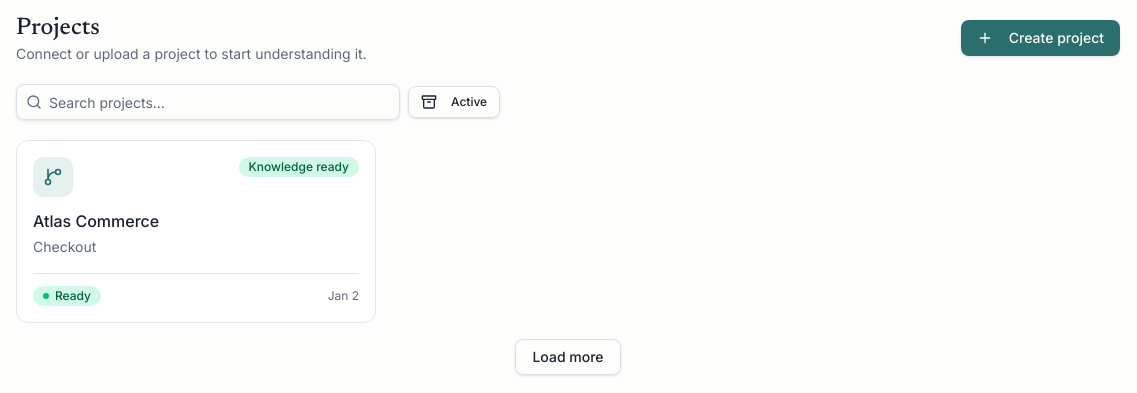
it: ProjectsPage › shows load more when nextCursor is present
This screenshot has width=1137, height=393.
Expected: the heading "Atlas Commerce" is shown, [33,211,159,231]
Click the button "Load more". click: (568, 357)
box: [515,339,620,375]
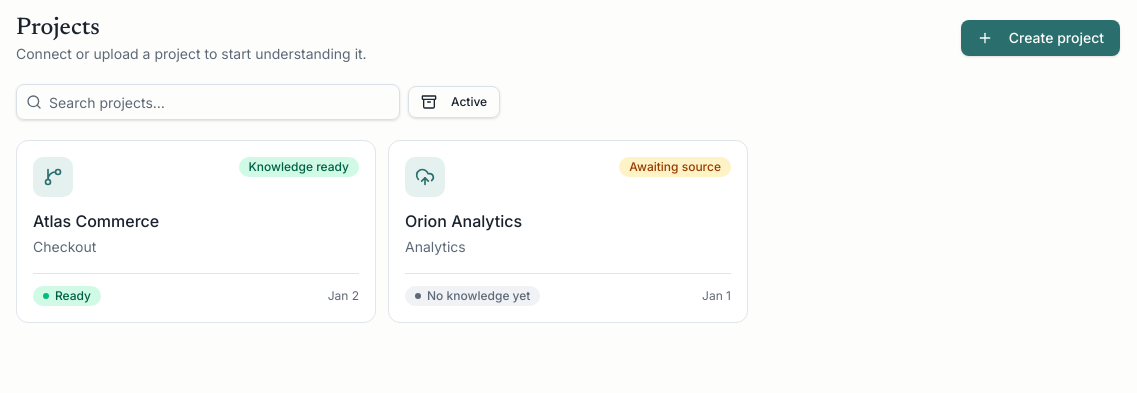
Expected: the heading "Orion Analytics" is shown, [405,211,522,231]
